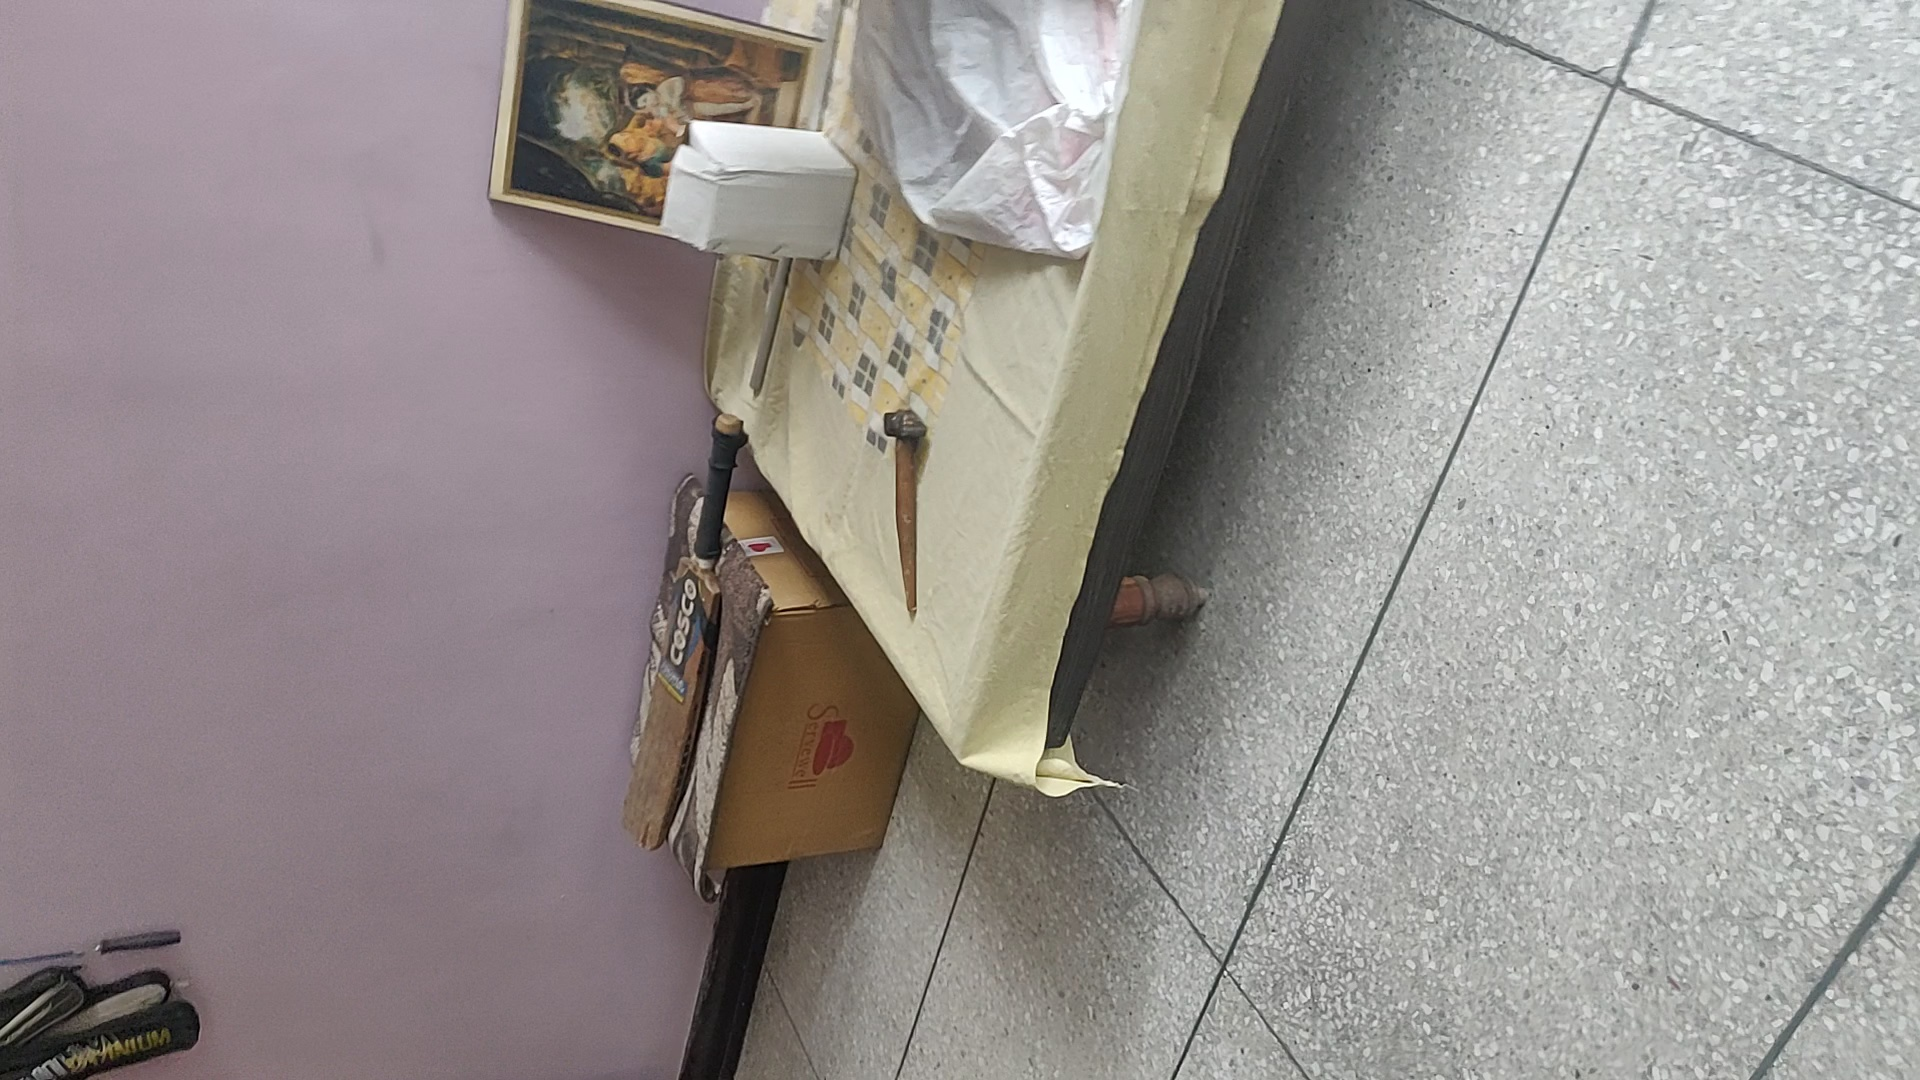hammer: (880, 407, 928, 618)
